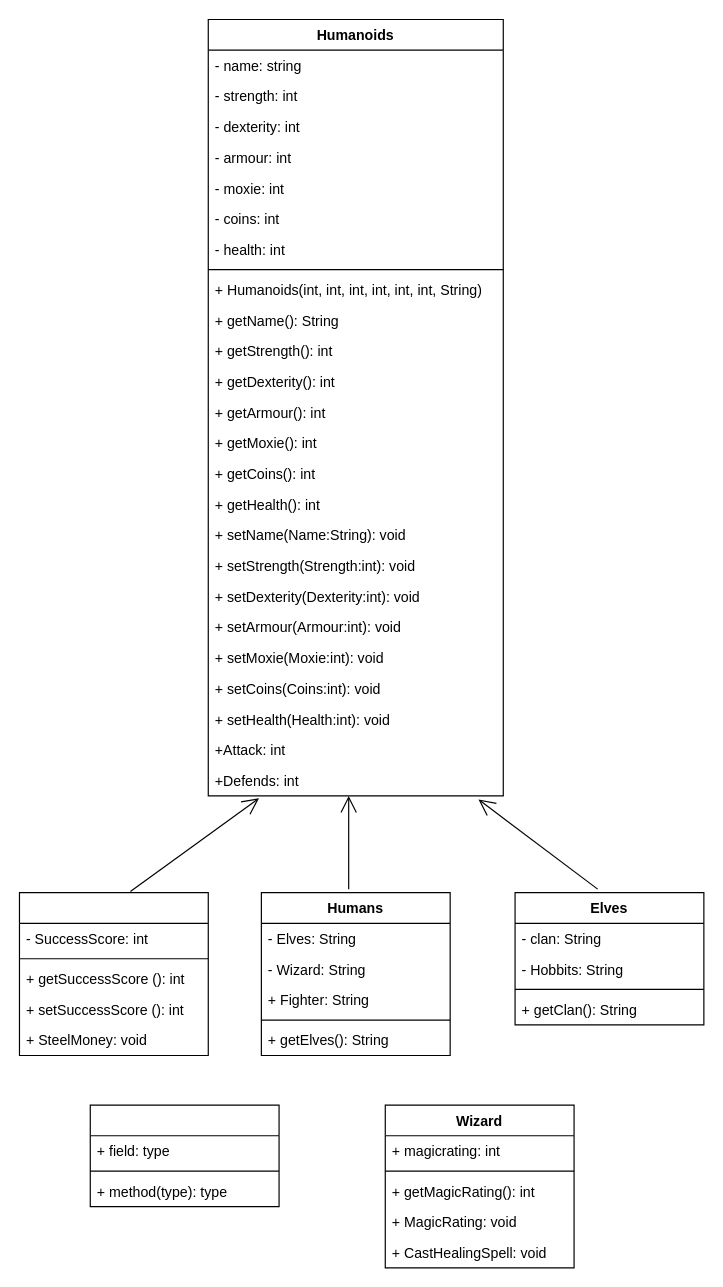
Some shapes in this 723 by 1287 pixel diagram are drawn without their labels. The shapes that lost their labels are listed below. From the top down, each one's box as (x1, y1, x2, y2) in pixels, then its label:
(18, 891, 208, 1056): Hobbits
(89, 1104, 279, 1207): Fighter
